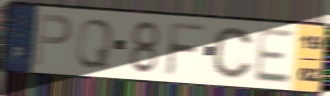8: (129, 19, 161, 75)
C: (211, 26, 255, 82)
E: (252, 26, 296, 85)
F: (163, 20, 208, 79)
P: (32, 11, 74, 68)
Q: (73, 17, 116, 70)
